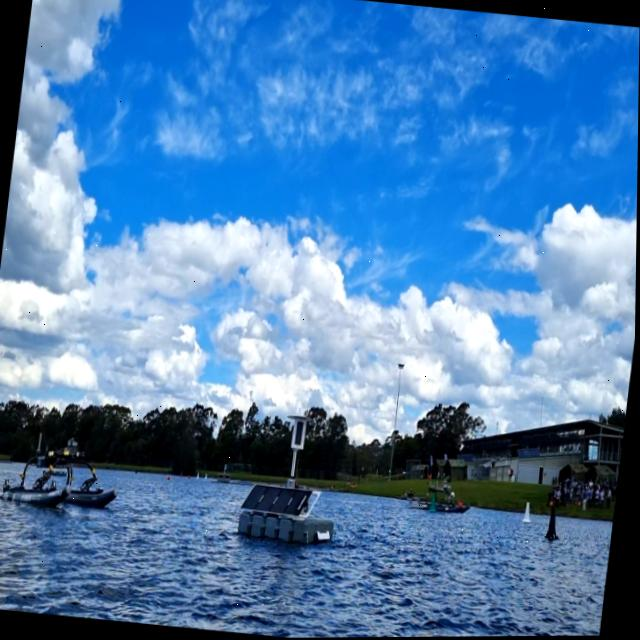led: (293, 419, 307, 448)
